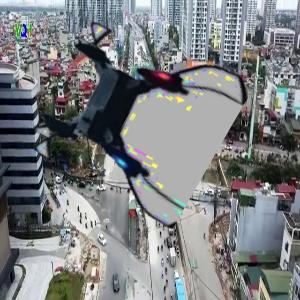drone: (40, 25, 225, 210)
